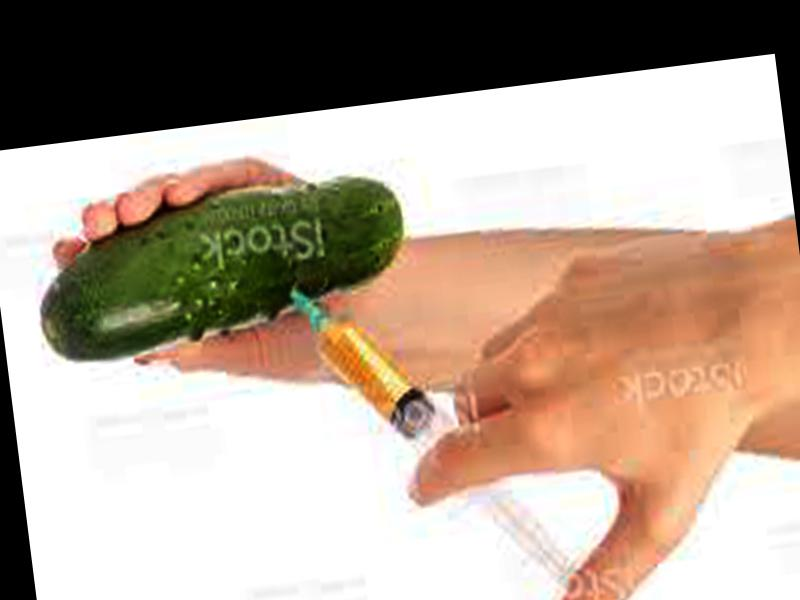Cucumber: (26, 179, 414, 366)
